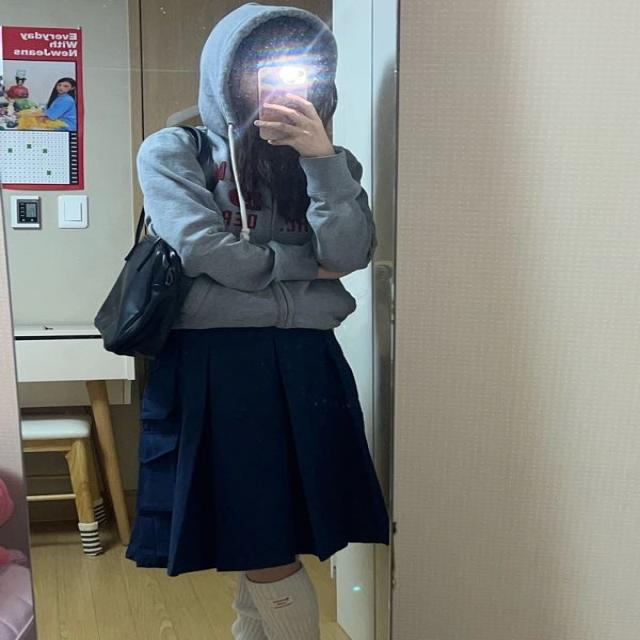skirt: (130, 324, 390, 583)
zipup: (133, 3, 375, 329)
